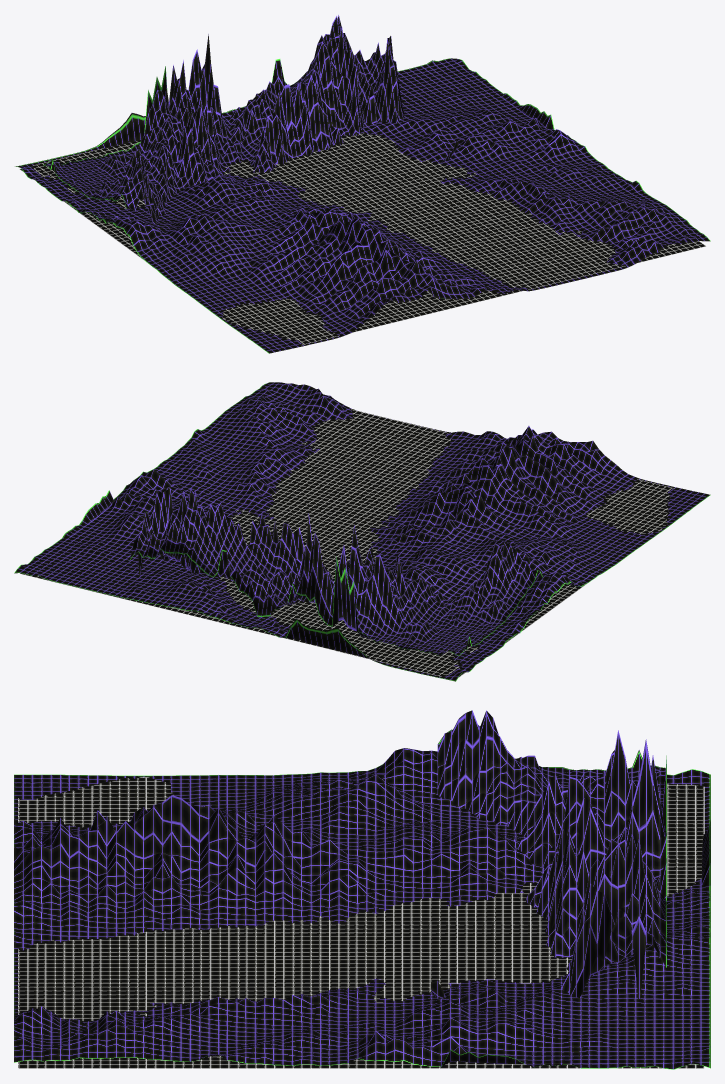
Rendered from terrain-grid.glb.
3 renders of one model, top to bottom at view 1: azimuth 30°, elevation 25°; view 2: azimuth 150°, elevation 25°; view 3: azimuth 270°, elevation 25°, orthographic. The views are drawn at different scales.
Visible parts, largest first — view 1: Object_4, Object_3, Object_5; view 2: Object_4, Object_5, Object_3; view 3: Object_4, Object_3, Object_5.
Boxes of the visible parts, x1,y1,x2,y2 form: Object_4: (15,58,710,353); Object_3: (19,133,706,344); Object_5: (43,15,458,224); Object_4: (14,382,710,681); Object_5: (129,488,543,655); Object_3: (19,409,674,677); Object_4: (14,748,710,1069); Object_3: (18,777,704,1068); Object_5: (431,710,666,999).
Bounding box in the file's own units: 1339 × 358 × 1339.
Materials: 2 (2 with a texture image).
